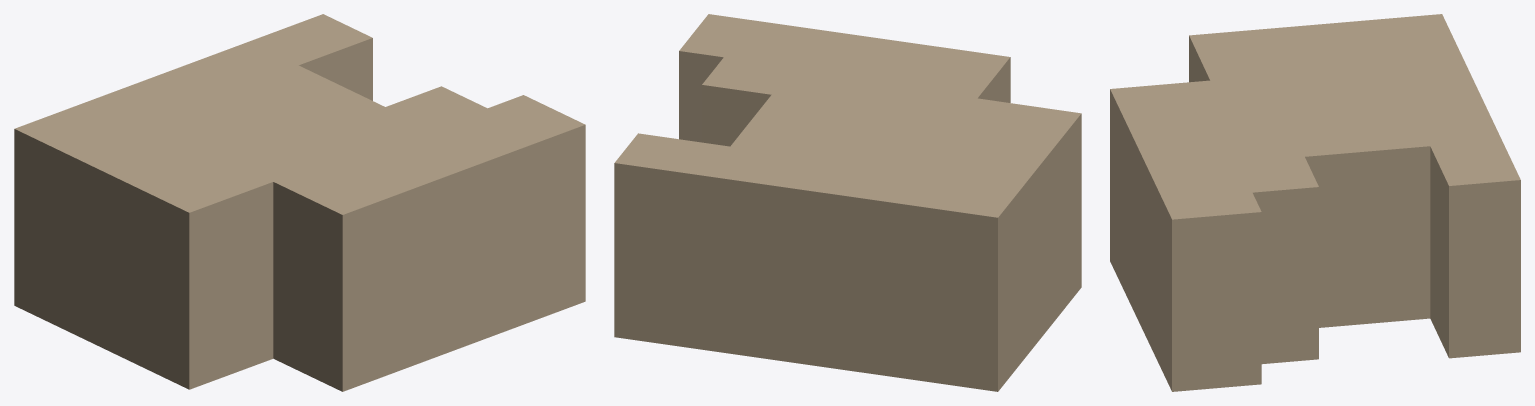
Rendered from bld_99867703.dae.
3 renders of one model, left to right at view 1: azimuth 30°, elevation 25°; view 2: azimuth 150°, elevation 25°; view 3: azimuth 270°, elevation 25°, orthographic. The views are drawn at different scales.
Visible parts, largest first — view 1: bld_99867703; view 2: bld_99867703; view 3: bld_99867703.
Boxes of the visible parts, <box> form: bld_99867703: <box>14,14,585,391</box>; bld_99867703: <box>614,14,1081,391</box>; bld_99867703: <box>1110,14,1520,391</box>.
Bounding box in the file's own units: 20.47 × 17.28 × 8.
